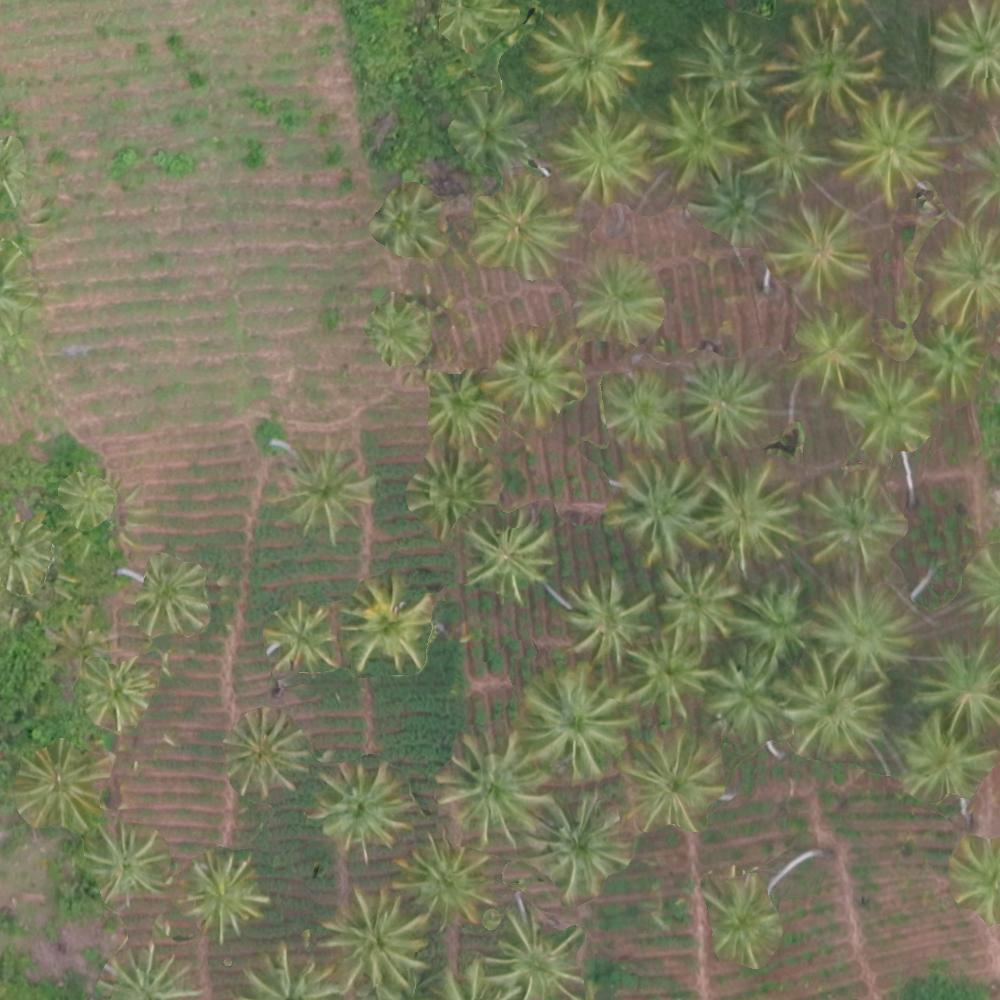Palm: (771, 14, 881, 123), (603, 457, 718, 560), (522, 667, 626, 779), (837, 92, 942, 200), (436, 734, 543, 839), (326, 888, 429, 993), (811, 578, 919, 678), (528, 794, 636, 893), (533, 12, 641, 110), (707, 463, 802, 568), (778, 662, 884, 754), (764, 207, 877, 292), (483, 904, 583, 1000), (801, 472, 895, 569), (393, 838, 490, 932), (892, 716, 992, 806), (471, 185, 571, 274), (646, 99, 745, 188), (551, 114, 654, 197), (275, 445, 368, 536), (837, 369, 931, 458), (627, 735, 720, 824), (916, 639, 1000, 733), (13, 741, 105, 826), (348, 582, 436, 669), (316, 763, 402, 852), (677, 358, 761, 447), (566, 576, 650, 664), (743, 116, 832, 198), (490, 335, 577, 418), (677, 21, 763, 104), (622, 632, 704, 718), (924, 230, 998, 325), (449, 90, 534, 171), (925, 5, 1000, 96), (700, 656, 783, 738), (748, 113, 833, 193), (464, 516, 548, 596), (660, 563, 736, 648), (705, 875, 785, 955), (693, 171, 777, 247), (578, 262, 655, 344), (186, 854, 266, 932), (409, 452, 492, 527), (790, 306, 870, 383), (226, 717, 308, 792), (121, 558, 203, 632), (595, 372, 674, 448), (428, 369, 502, 450), (734, 585, 810, 658), (78, 655, 151, 729), (87, 832, 167, 899), (372, 189, 446, 255), (914, 328, 985, 392), (264, 605, 334, 668), (368, 299, 425, 364), (53, 468, 108, 527)
